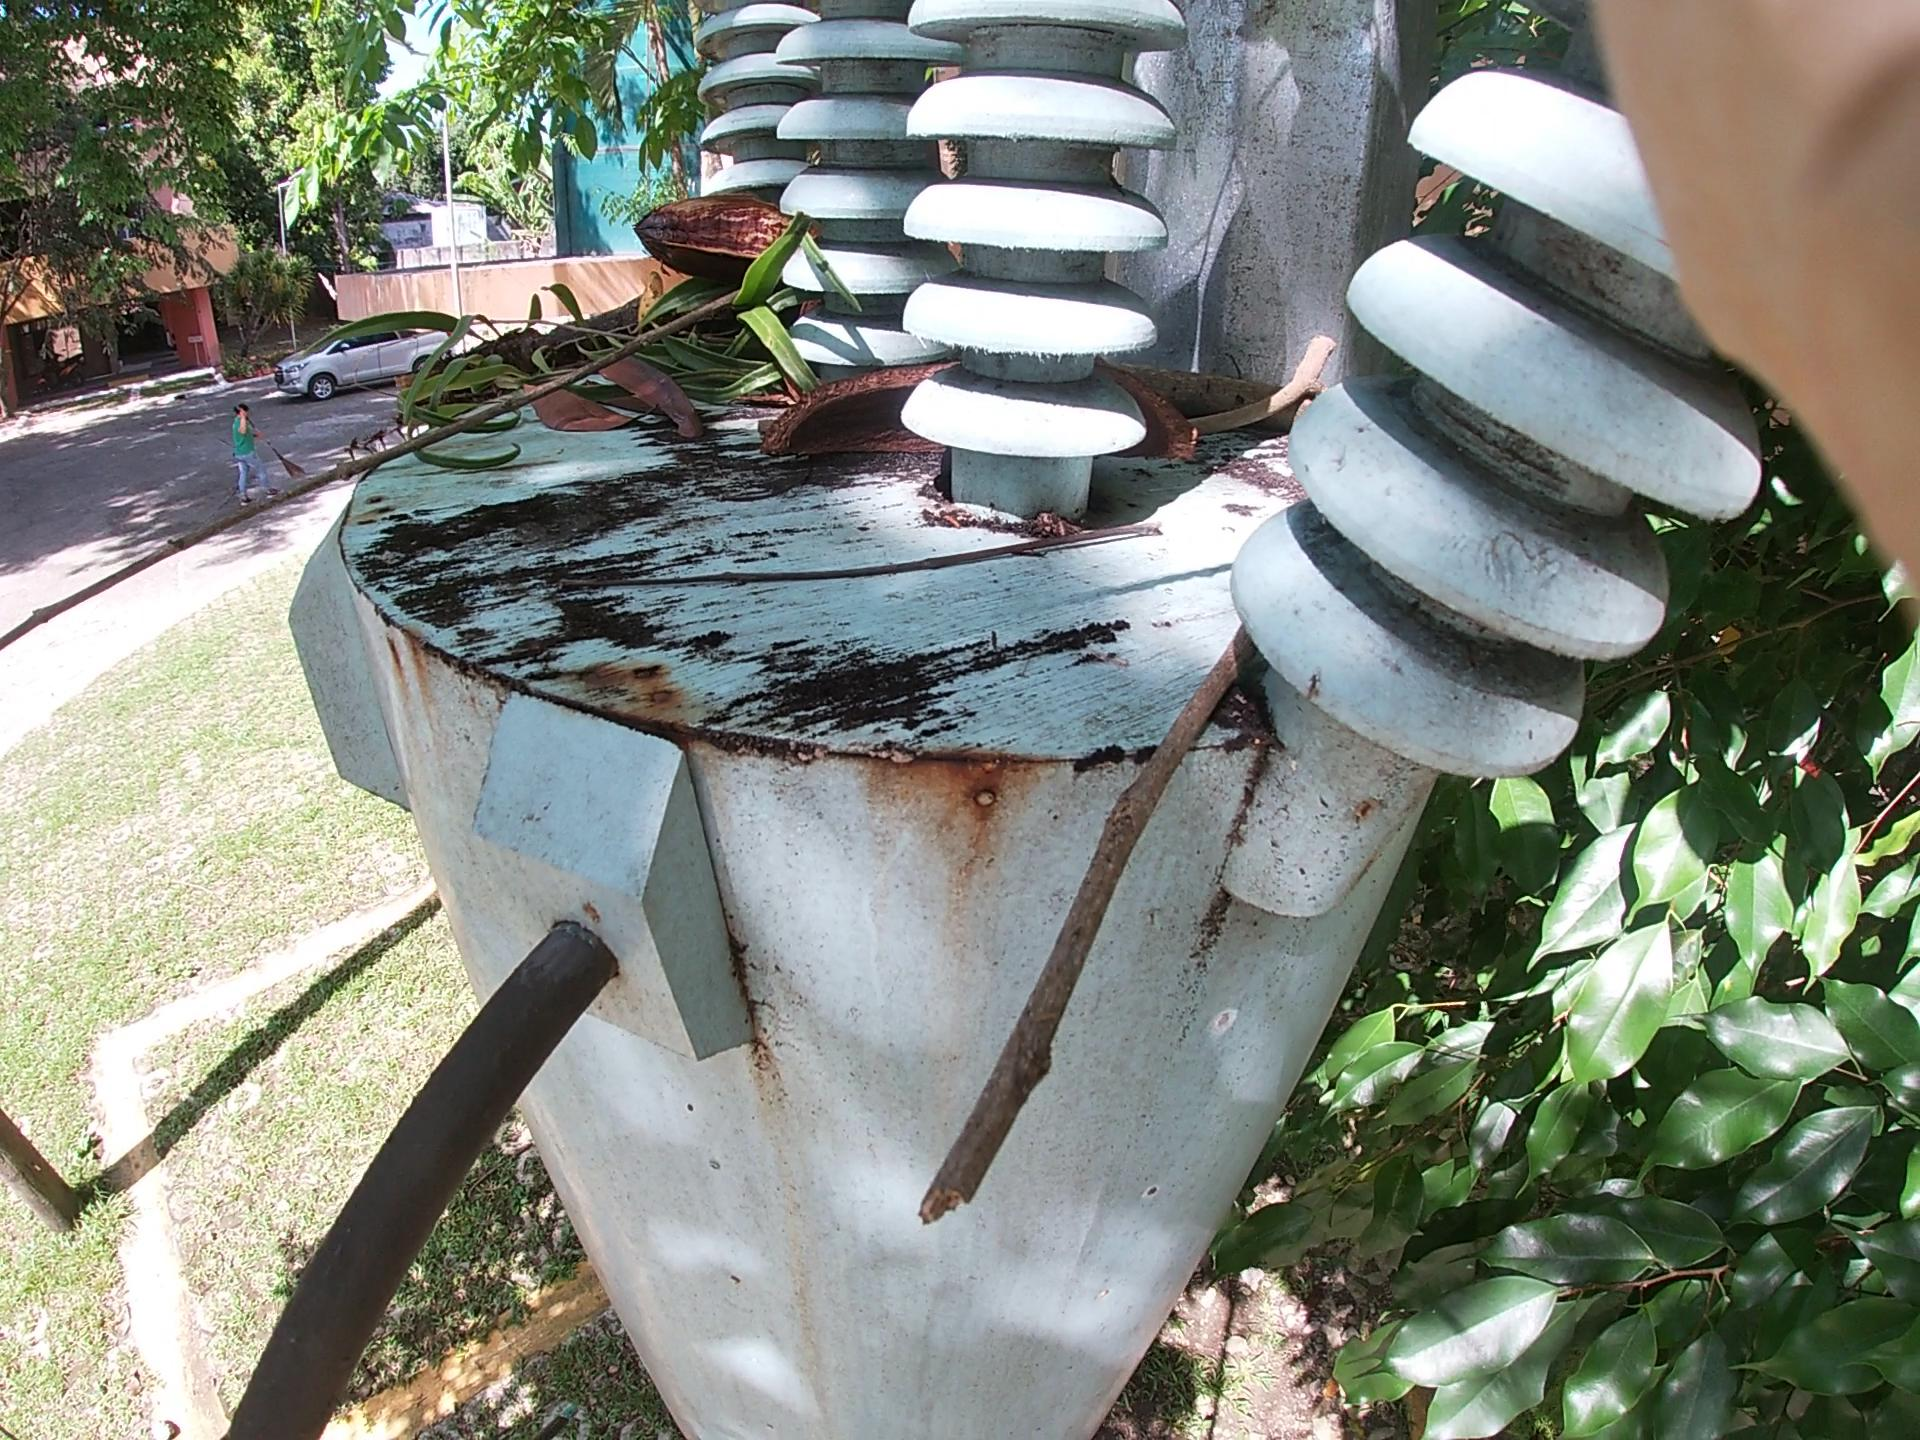branch with leaves: (447, 189, 732, 430)
leaf: (514, 331, 759, 526)
mahogany fruit: (639, 141, 945, 315), (692, 331, 981, 476)
tree branch: (14, 106, 900, 641), (930, 511, 1312, 1231), (1179, 266, 1459, 464)
